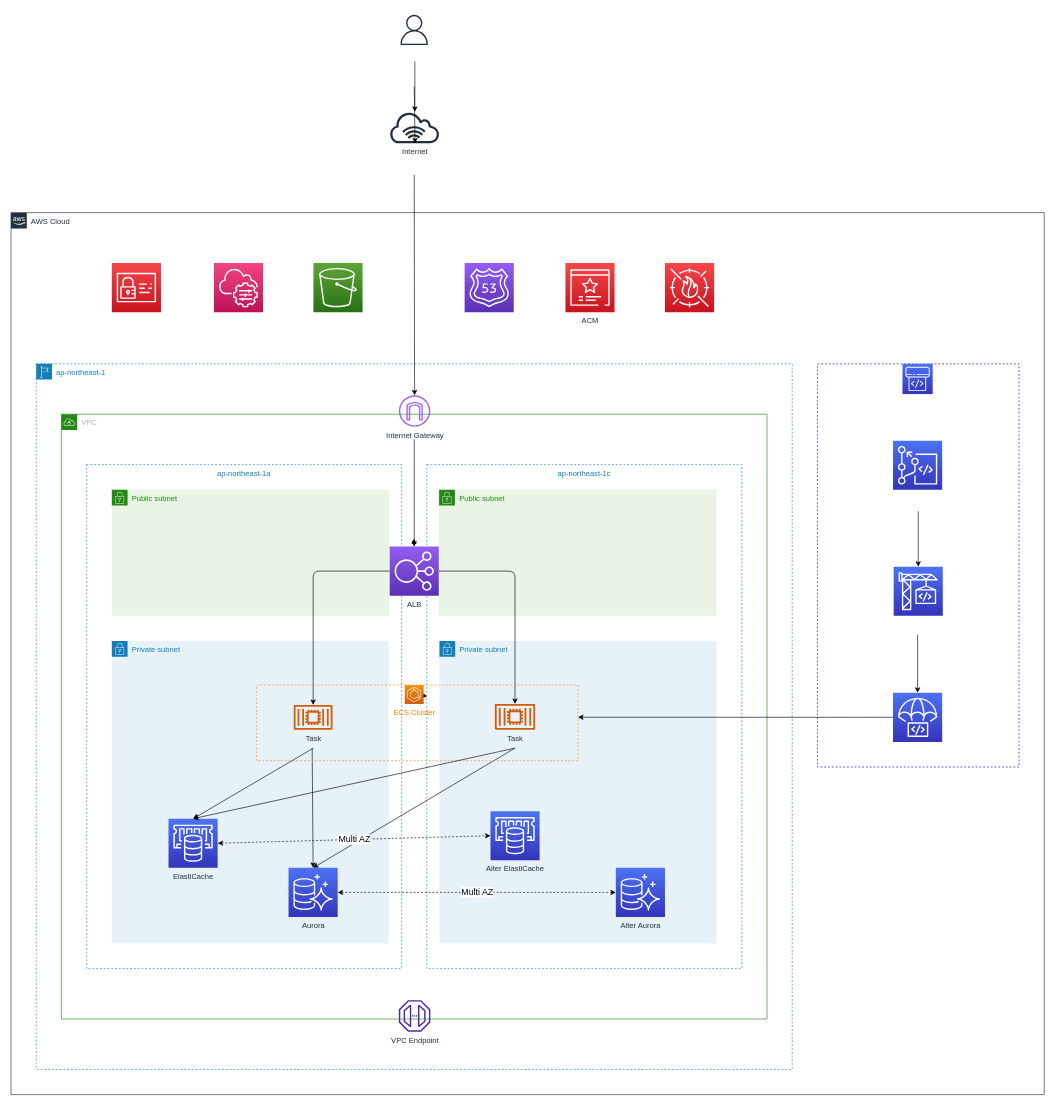
Image size: 1055x1111. Some labels were removed from this diagram. The shapes that lost their labels are listed below. From the top down, each one's centre as x and y in pixels, then its label:
pixel 414 29: User
pixel 136 287: IAM
pixel 238 287: System Manager
pixel 338 287: S3
pixel 489 287: Route53
pixel 689 287: WAF
pixel 917 378: CodePipeline
pixel 917 465: CodeCommit
pixel 918 591: CodeBuild
pixel 917 717: CodeDeploy
